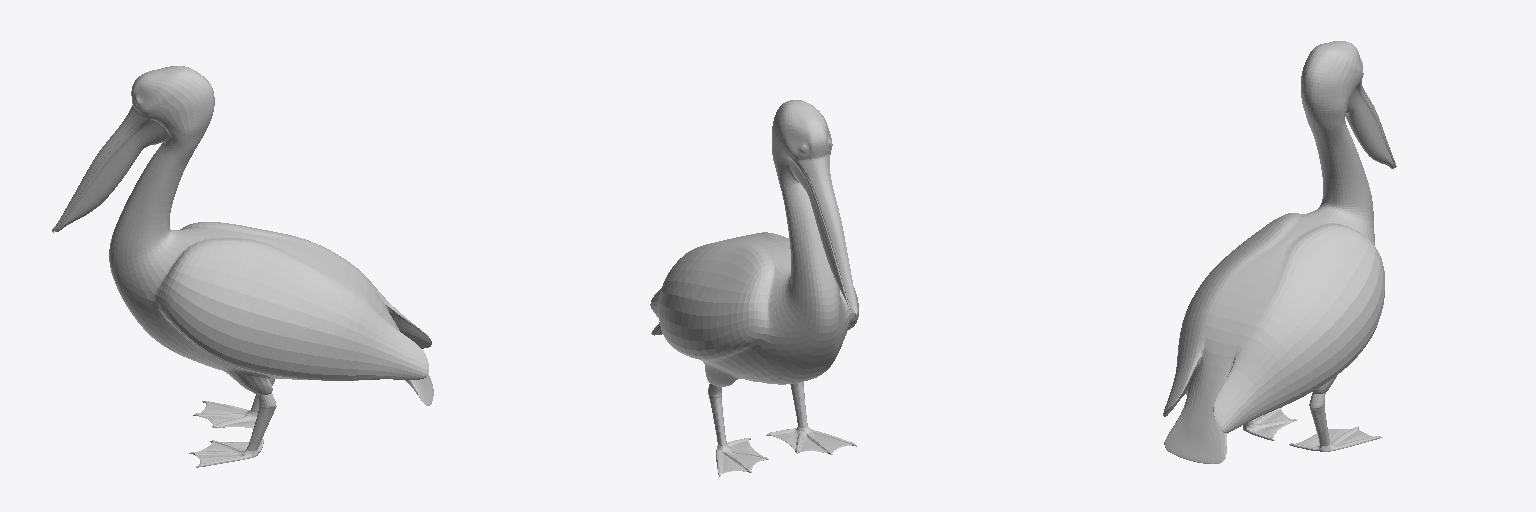
File: pelicano3.obj
3 views of the same model, side by side, from view 1: azimuth 30°, elevation 25°; view 2: azimuth 150°, elevation 25°; view 3: azimuth 270°, elevation 25° (orthographic).
Visible parts, largest first — view 1: pelicano; view 2: pelicano; view 3: pelicano.
Boxes of the visible parts, <box> form: pelicano: <box>52,66,433,467</box>; pelicano: <box>650,100,858,476</box>; pelicano: <box>1163,41,1396,463</box>.
Bounding box in the file's own units: 4.13 × 4.94 × 2.85.